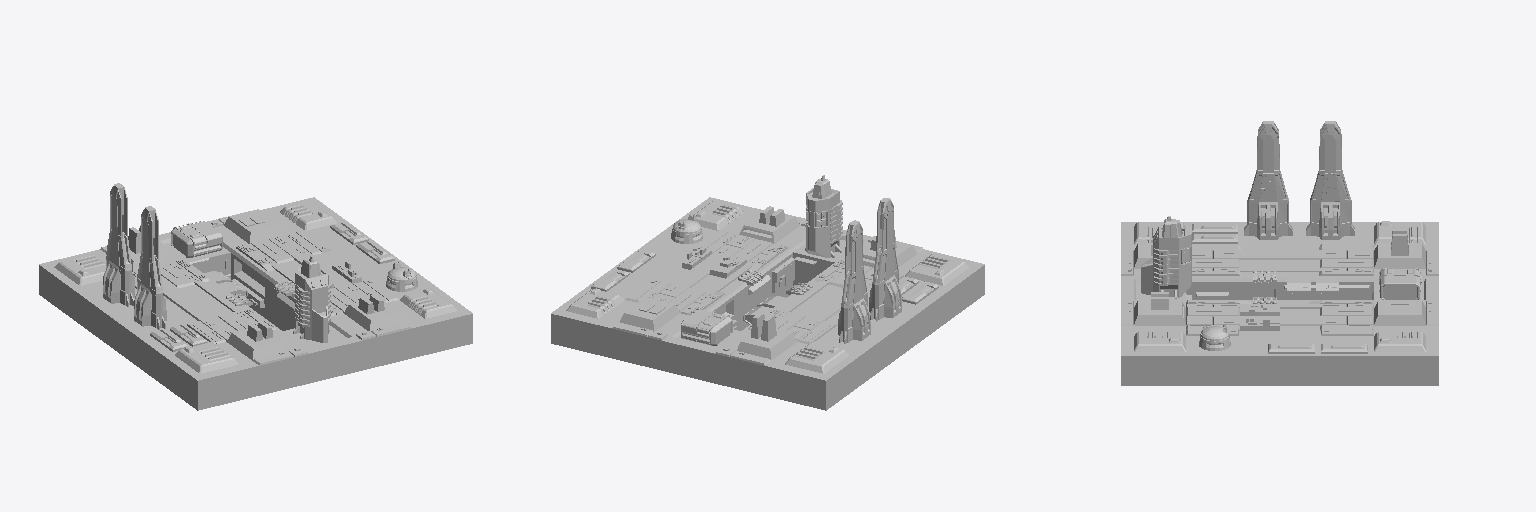
Rendered from SciFi_HumanCity_Kit05-OBJ.obj.
3 renders of one model, left to right at view 1: azimuth 30°, elevation 25°; view 2: azimuth 150°, elevation 25°; view 3: azimuth 270°, elevation 25°, orthographic.
Parts seen in each view (by area): view 1: SciFi_Kit05; view 2: SciFi_Kit05; view 3: SciFi_Kit05.
Boxes of the visible parts, box(x1,y1,x2,y2) form: SciFi_Kit05: box(39, 183, 472, 410); SciFi_Kit05: box(551, 175, 984, 410); SciFi_Kit05: box(1121, 121, 1438, 385).
Size of the model in its own units: 200 by 110 by 200.